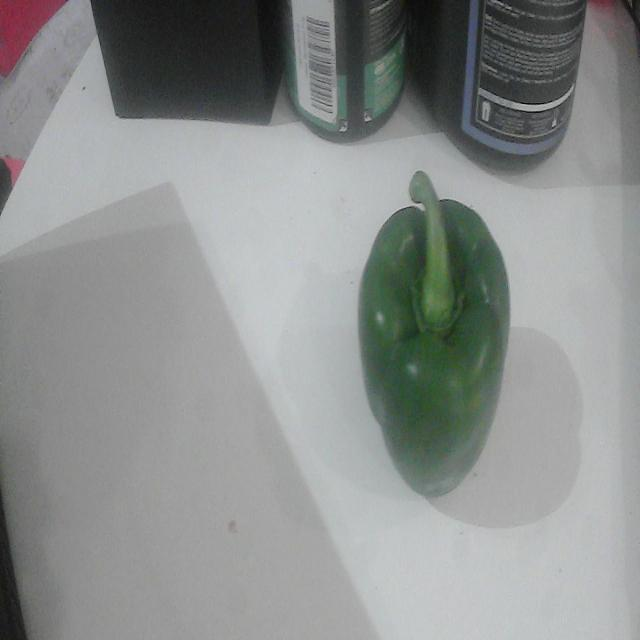Bell Pepper: (358, 171, 510, 497)
